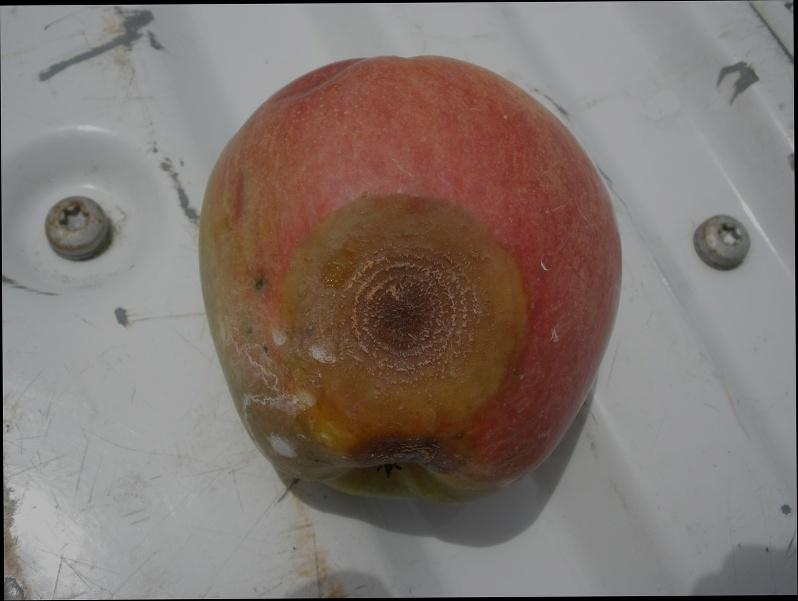rotten apple: (197, 52, 623, 512)
